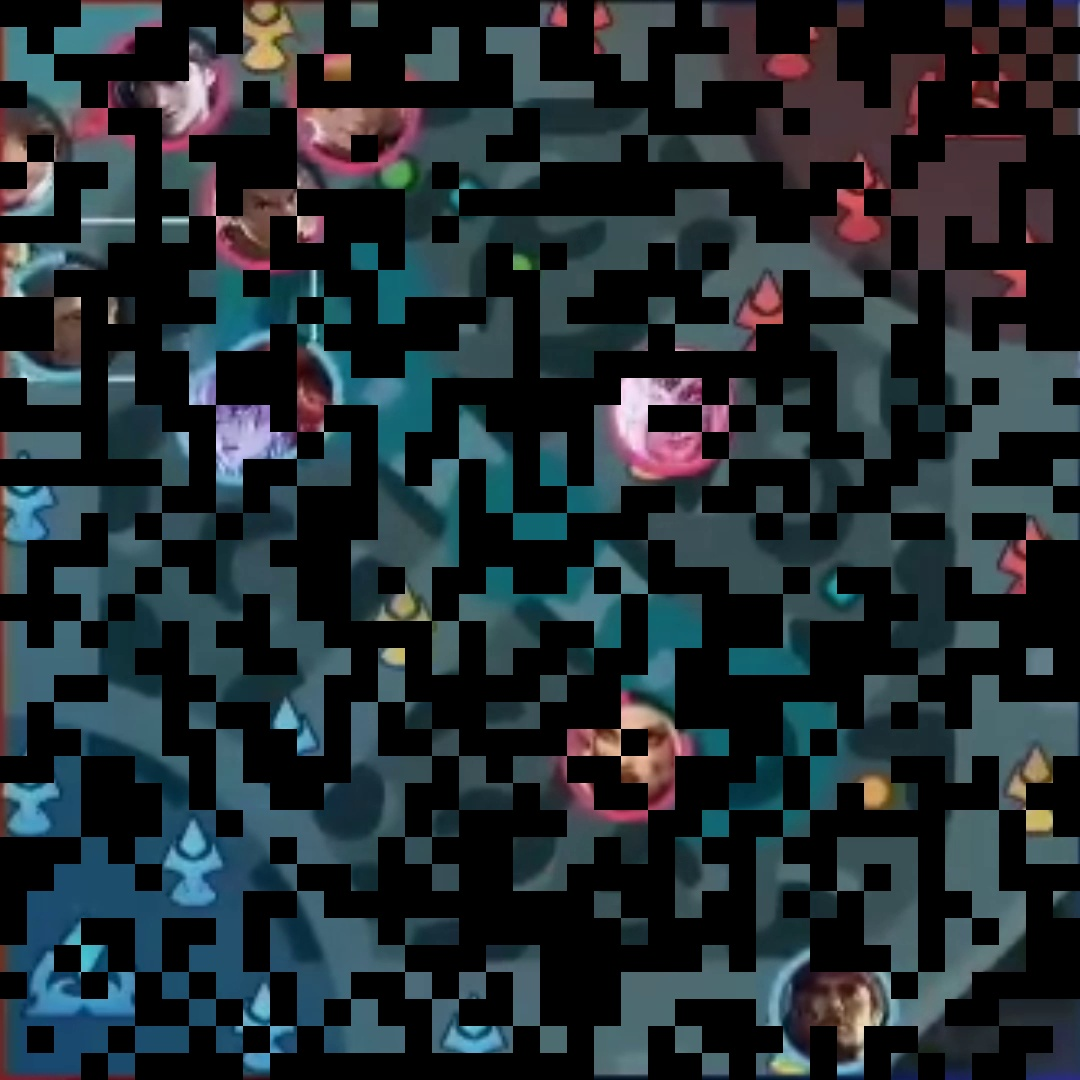Chou: (208, 158, 323, 257)
Claude: (105, 20, 226, 147)
Fanny: (300, 58, 412, 158)
Fredrinn: (14, 267, 122, 373)
Lapu-Lapu: (785, 958, 890, 1059)
Masha: (571, 704, 680, 808)
Novaria: (182, 372, 294, 474)
Valentina: (623, 351, 730, 467)
Wanwan: (1, 95, 69, 214)
